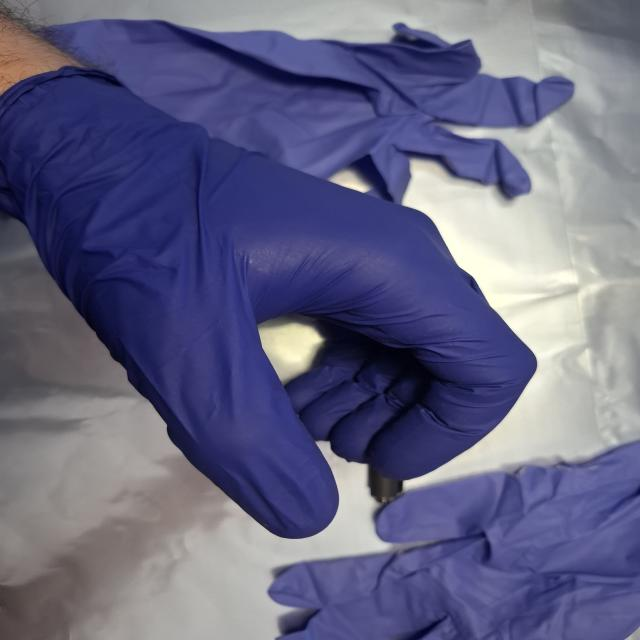glove_on: (0, 64, 542, 540)
